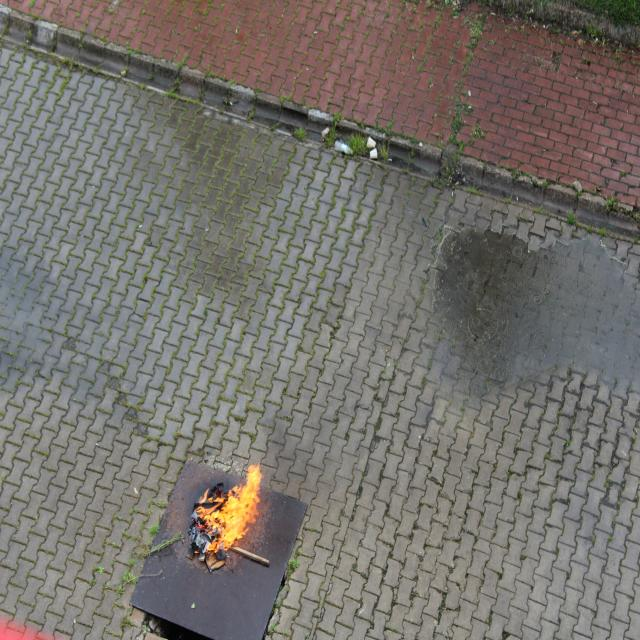fire: (188, 460, 268, 571)
